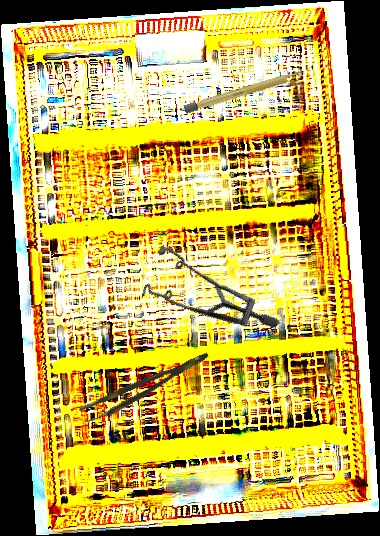Scalpel Handle: (182, 68, 307, 115)
Speculum: (125, 214, 282, 378)
Tissue Forceps: (77, 350, 215, 426)
